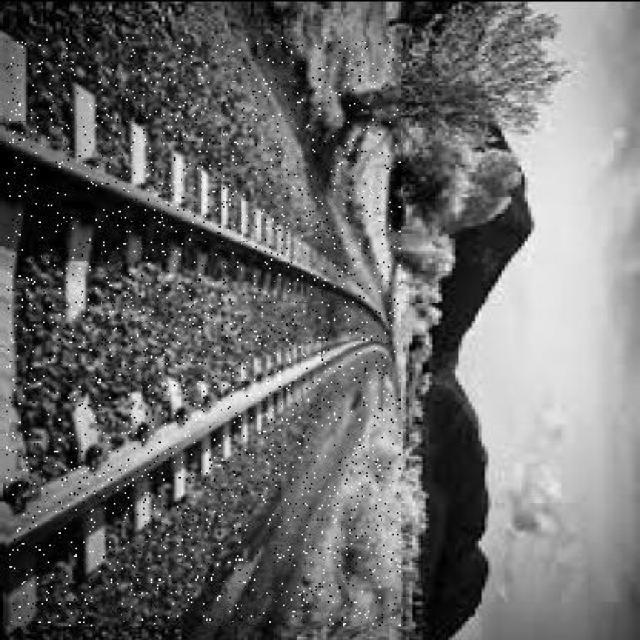rail: (6, 35, 399, 624)
